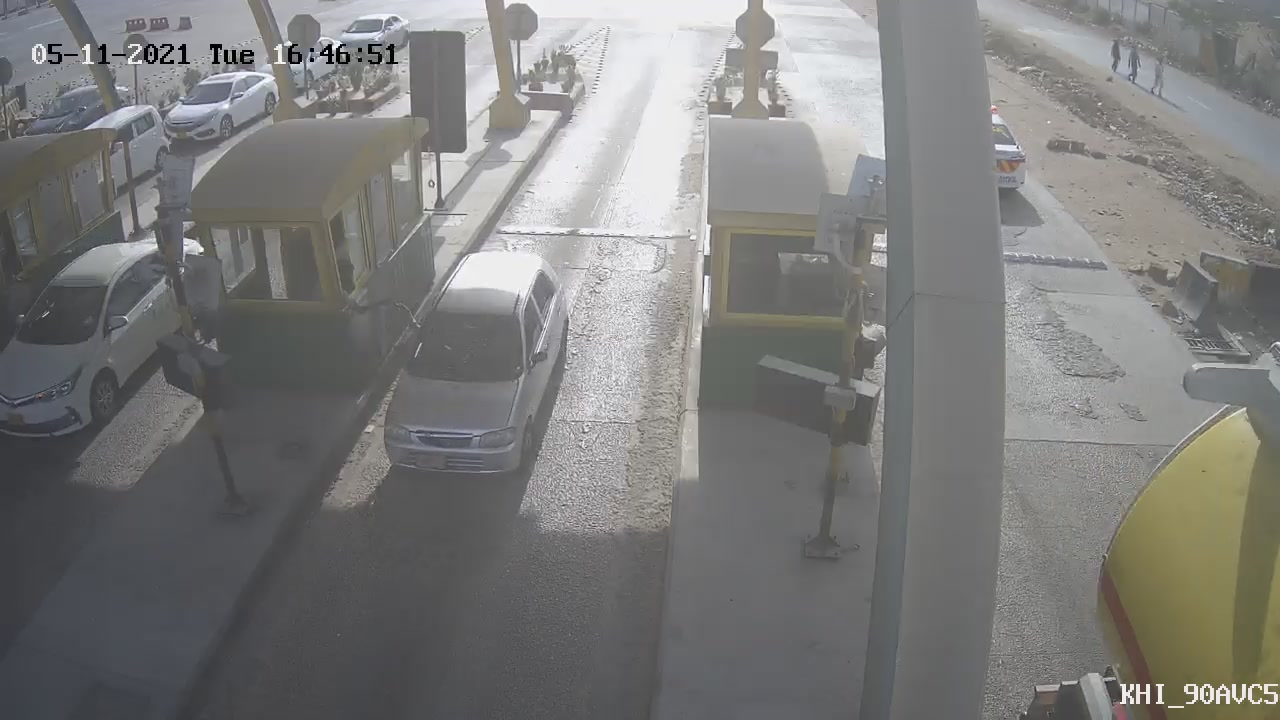F1: (372, 234, 582, 498)
